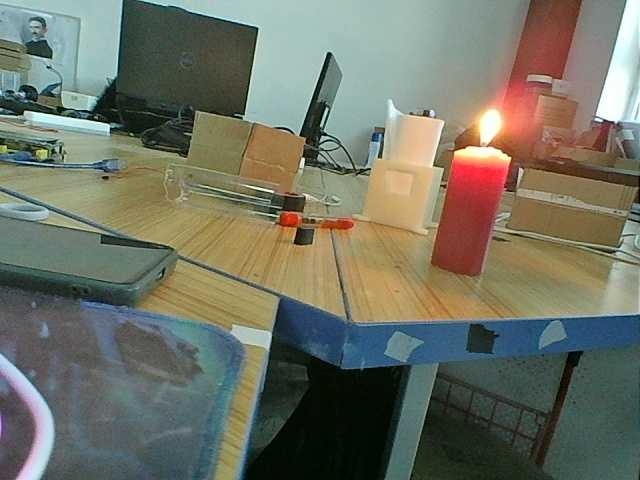candle: (430, 145, 514, 277)
fire: (455, 111, 532, 163)
